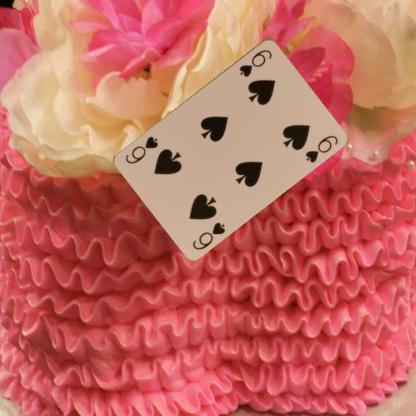6s: (236, 46, 274, 78), (190, 219, 226, 251)
